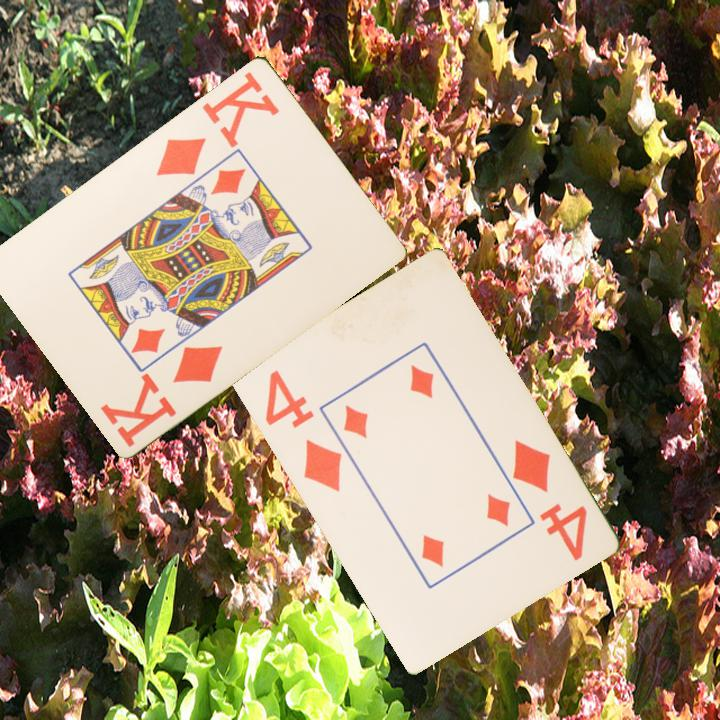4d: (261, 366, 345, 495), (508, 436, 590, 564)
Kd: (152, 67, 283, 179), (97, 341, 226, 451)
